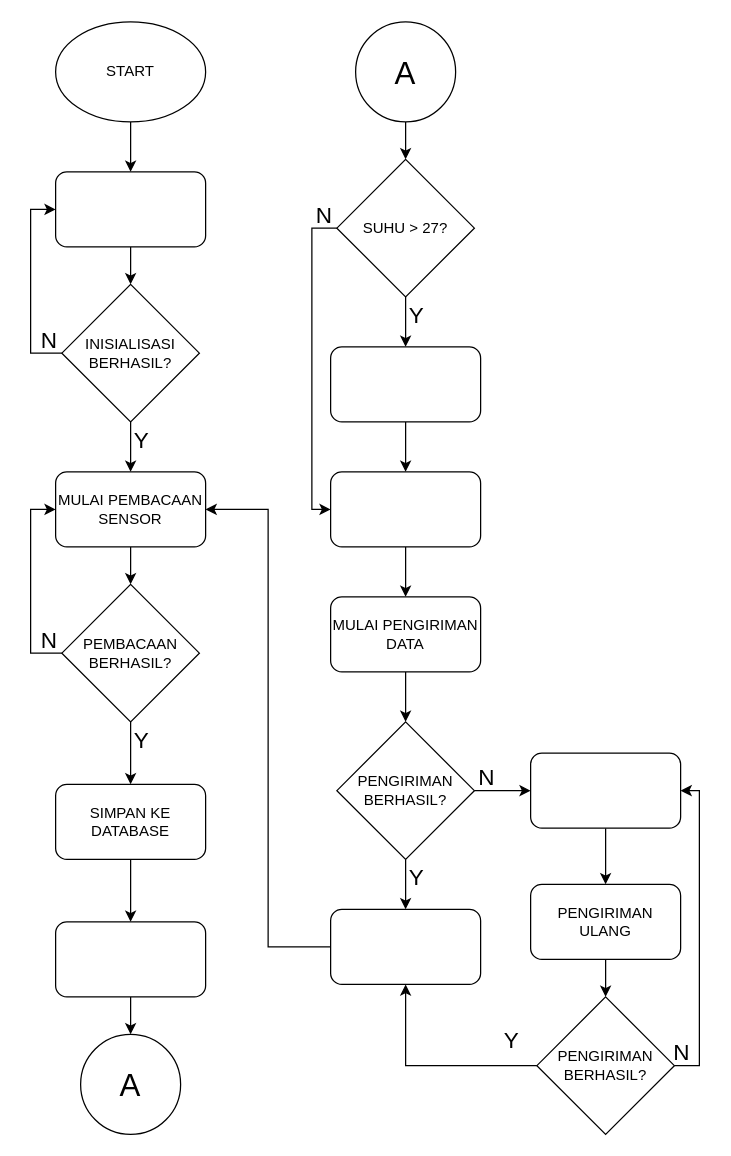
Image size: 731x1156. Some labels were removed from this diagram. Each missing label, with the centre of its shape:
DELAY 1 DETIK: the point at 405,946
INISIALISASI PERANGKAT: the point at 130,209
MASUK QUEUE: the point at 605,790
PEMROSESAN SENSOR SUHU: the point at 130,959
PERSIAPAN PENGIRIMAN DATA: the point at 405,509
POWER ON COOLER FAN: the point at 405,384
